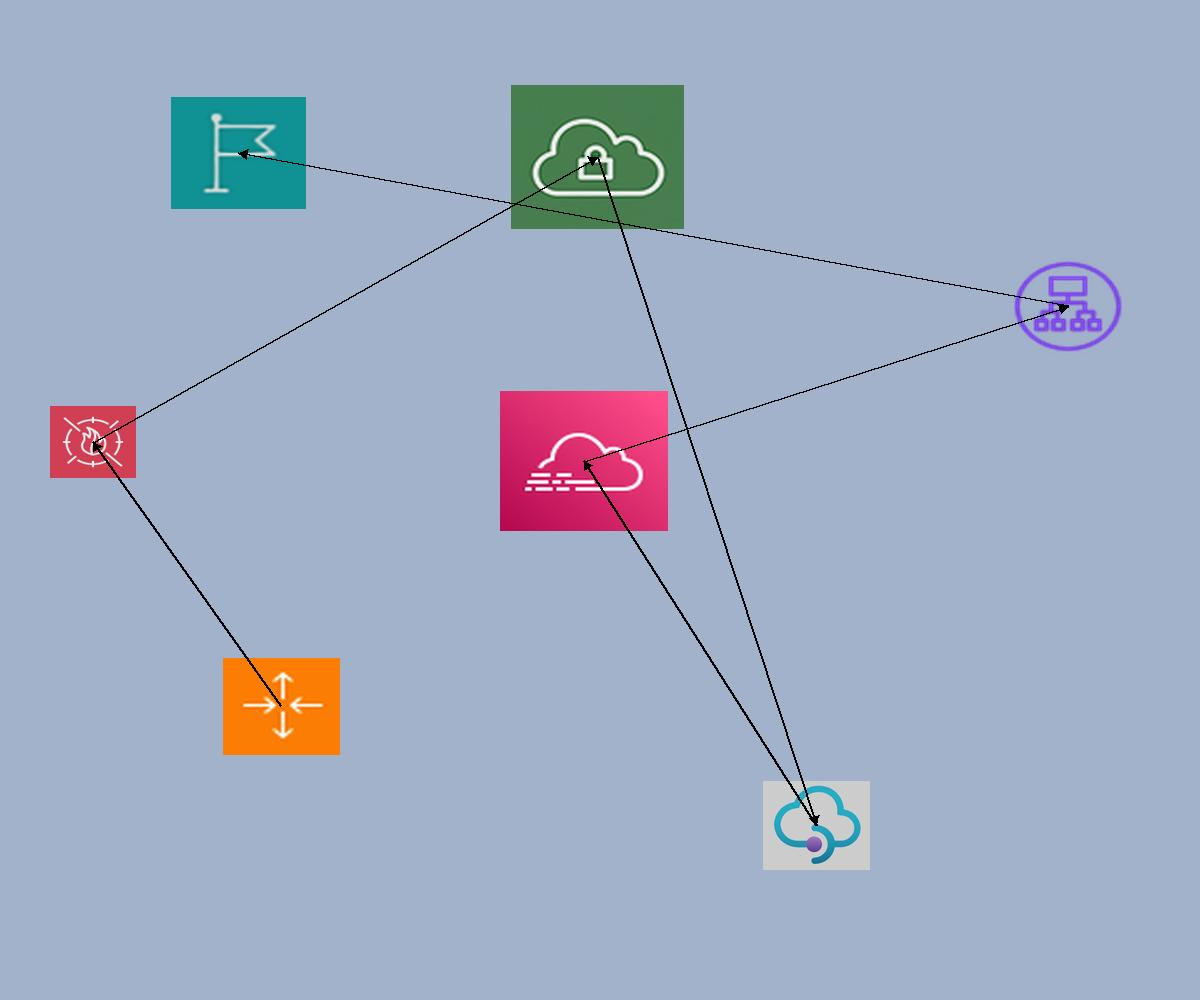AWS-CloudTrail: (500, 391, 668, 531)
AWS-Private_vpc: (511, 85, 684, 229)
AWS-Region: (171, 97, 306, 209)
AWS-Res_Elastic-Load-Balancing_Application-Load-Balancer: (1010, 258, 1126, 355)
AWS-Scaling-group: (223, 658, 340, 755)
AWS-WAF: (50, 406, 136, 478)
Azure_api_gateway: (763, 781, 870, 870)
